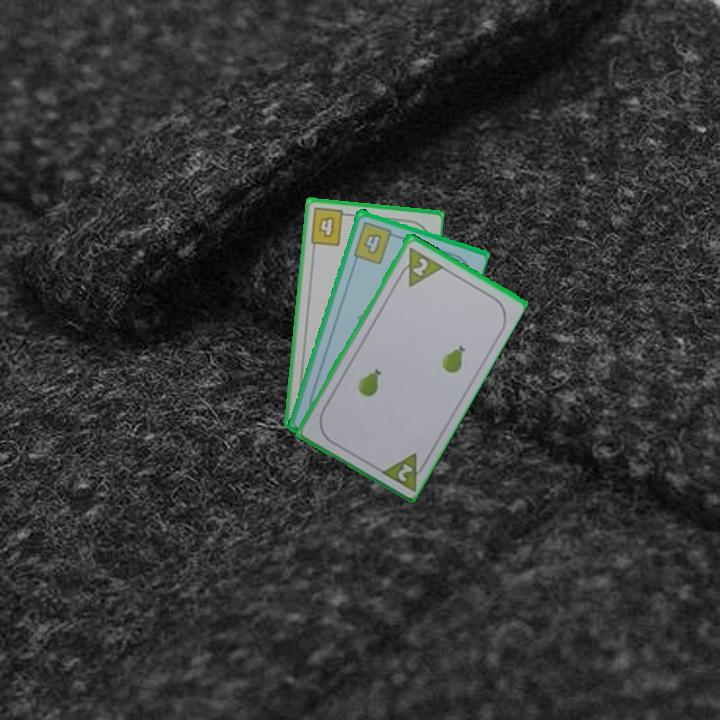2p: (375, 448, 432, 493), (393, 243, 445, 290)
4b: (350, 217, 400, 266), (306, 204, 353, 249)
